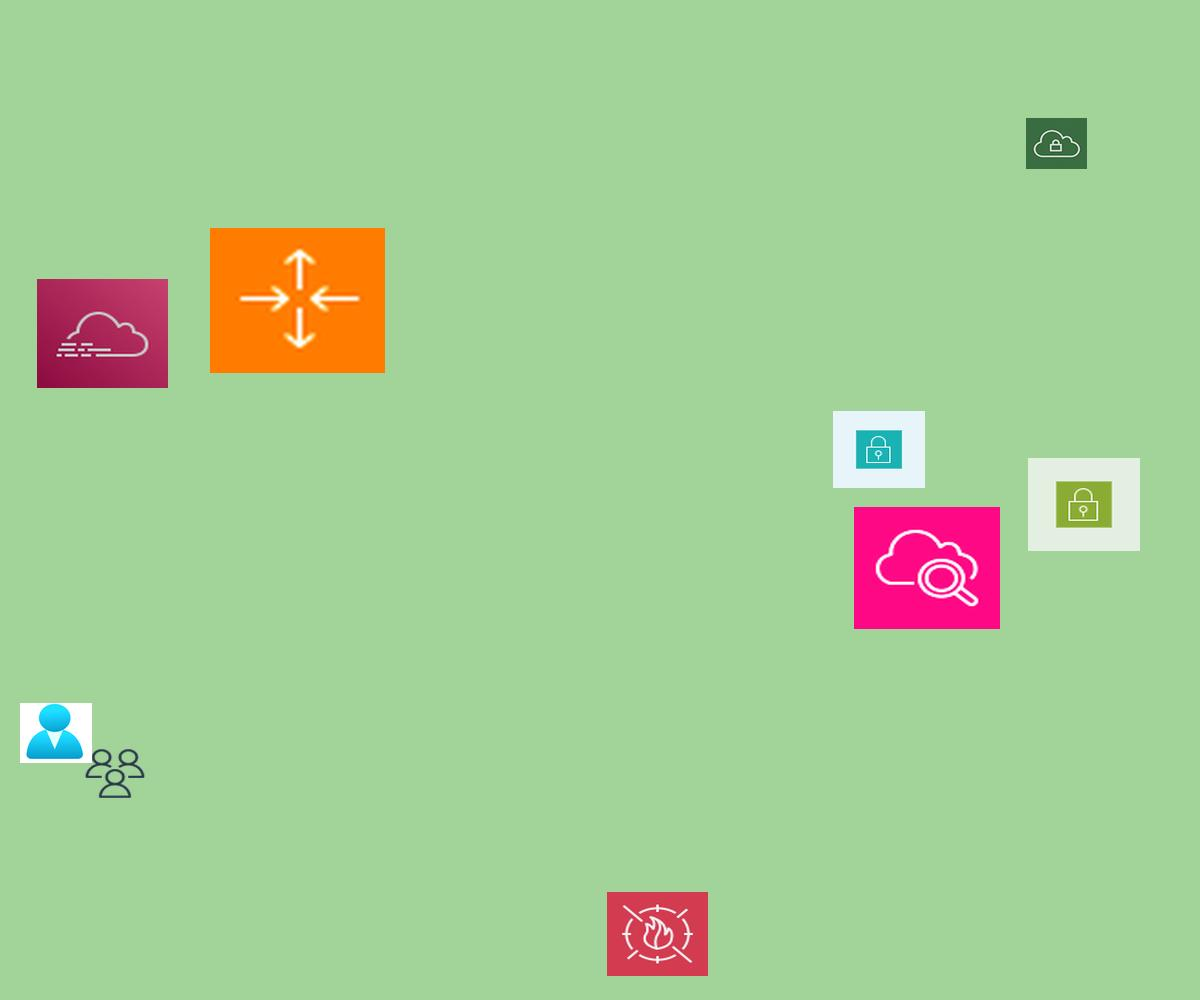AWS-CloudTrail: (37, 279, 168, 388)
AWS-CloudWatch: (854, 507, 1000, 629)
AWS-Private-subnet: (833, 411, 925, 488)
AWS-Private_vpc: (1026, 118, 1087, 169)
AWS-Public-subnet: (1028, 458, 1140, 551)
AWS-Res_Users: (83, 747, 147, 800)
AWS-Scaling-group: (210, 228, 385, 373)
AWS-WAF: (607, 892, 708, 976)
Azure_users: (20, 703, 92, 763)
